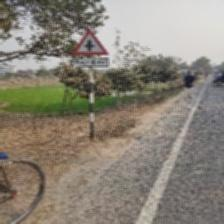Crossroad: (72, 28, 111, 70)
